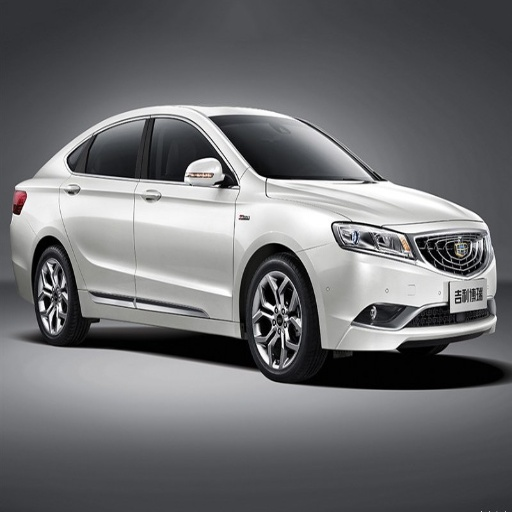back_right_door: (60, 115, 148, 312)
front_bumper: (311, 222, 498, 349)
front_right_door: (135, 115, 237, 319)
front_right_light: (332, 221, 411, 258)
